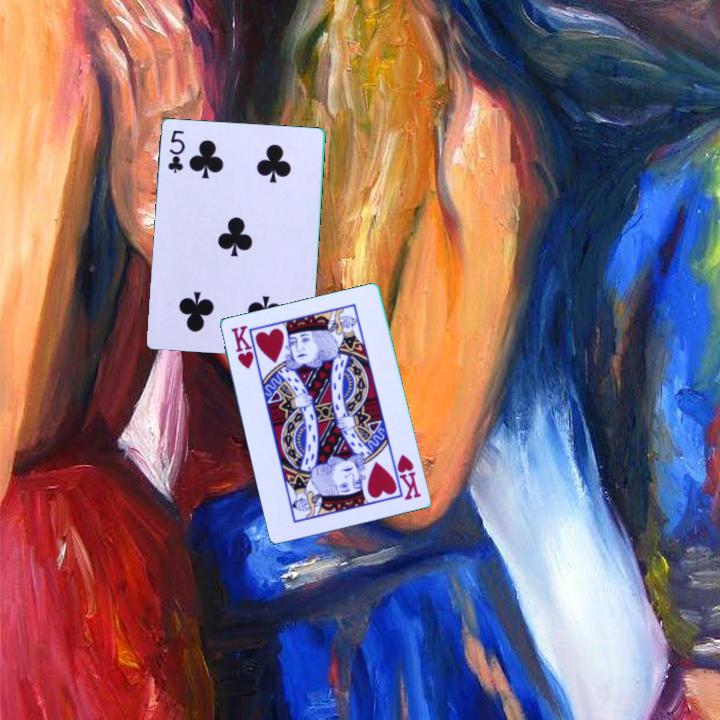5c: (165, 127, 188, 176)
Kh: (389, 451, 424, 503), (228, 322, 257, 372)
